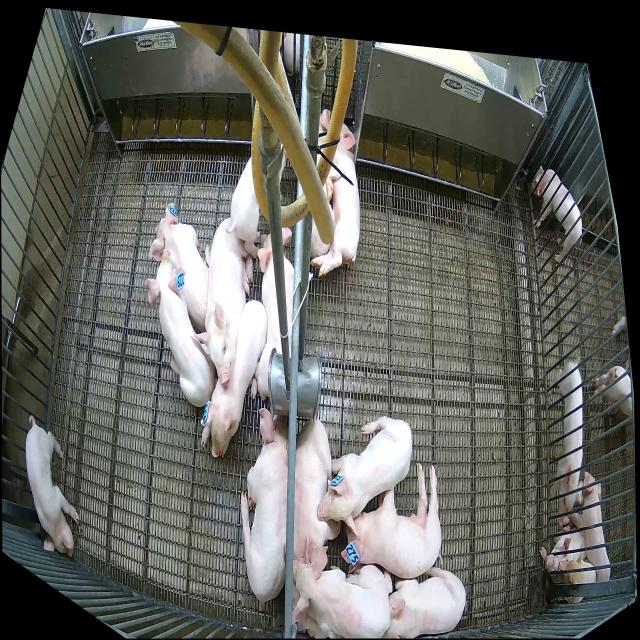pig: (341, 461, 442, 580), (144, 249, 215, 407), (317, 416, 412, 533), (200, 300, 268, 459), (192, 217, 253, 389), (240, 409, 288, 601), (292, 547, 392, 637), (150, 204, 211, 331), (310, 124, 360, 278), (26, 416, 79, 556), (293, 418, 340, 572), (231, 142, 288, 257), (257, 228, 294, 400), (293, 569, 382, 640), (382, 566, 466, 638), (310, 109, 334, 257)
